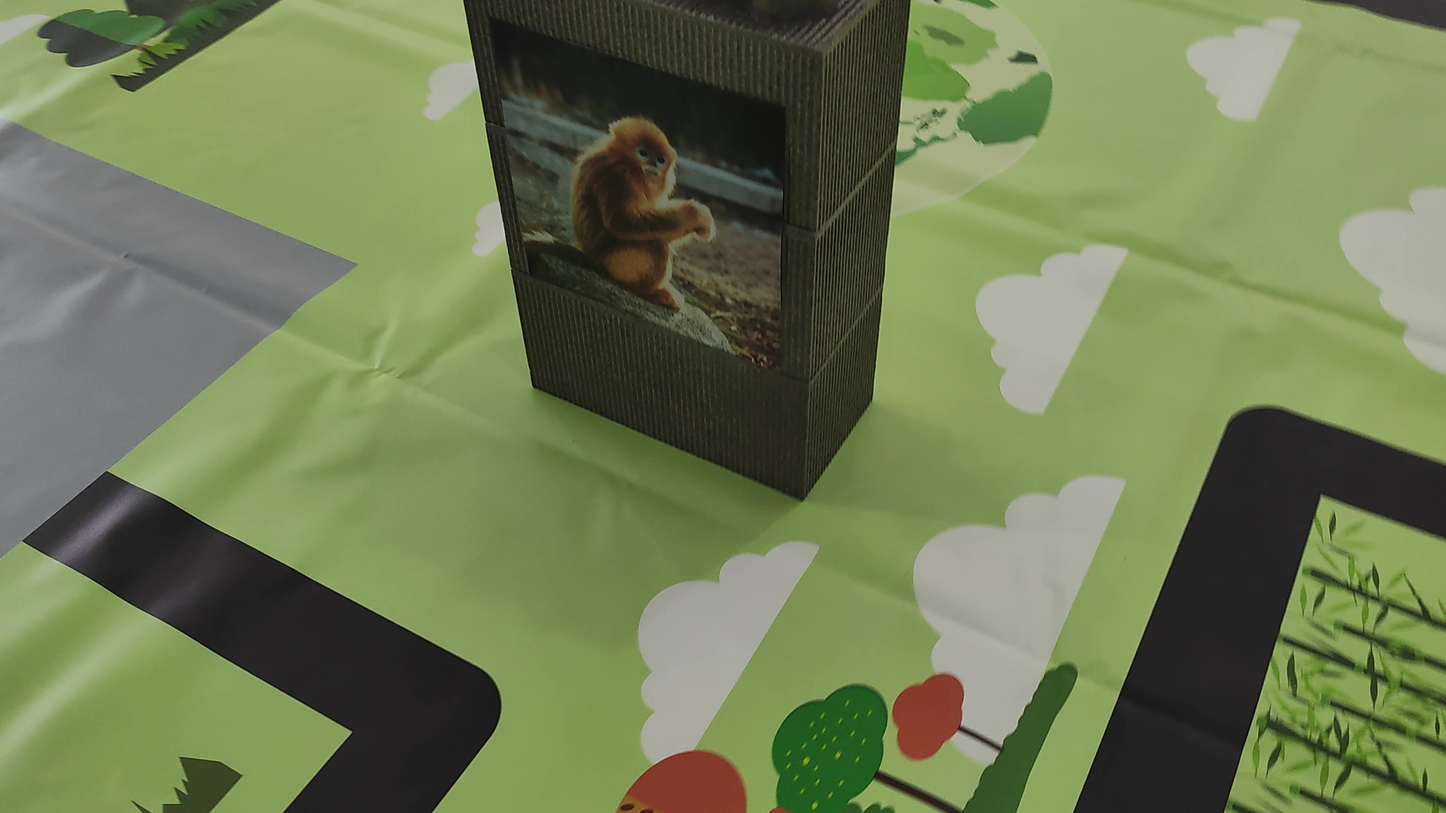monkey: (523, 96, 740, 335)
